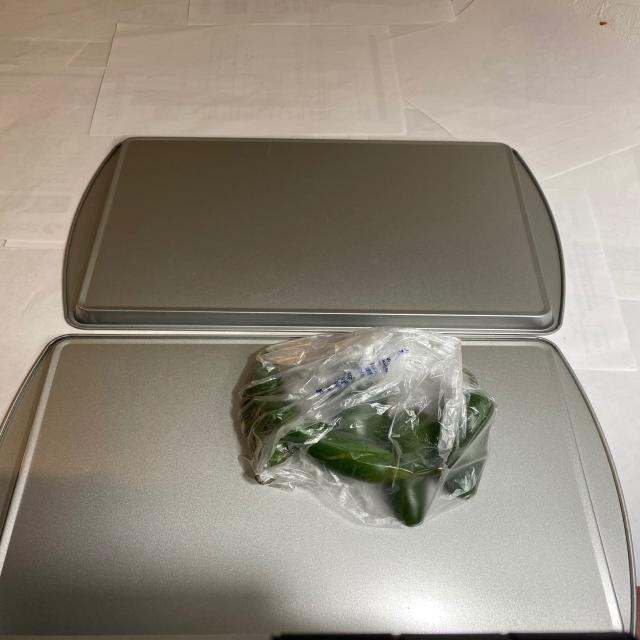chilli: (233, 339, 493, 530)
